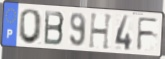4: (114, 14, 135, 52)
9: (69, 11, 87, 48)
B: (43, 10, 66, 47)
F: (136, 16, 160, 52)
H: (87, 12, 114, 51)
O: (18, 9, 44, 46)
